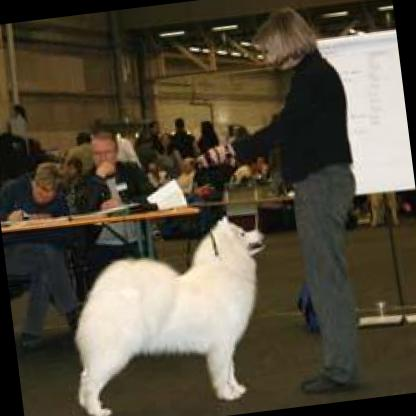Samoyed: (53, 202, 282, 416)
